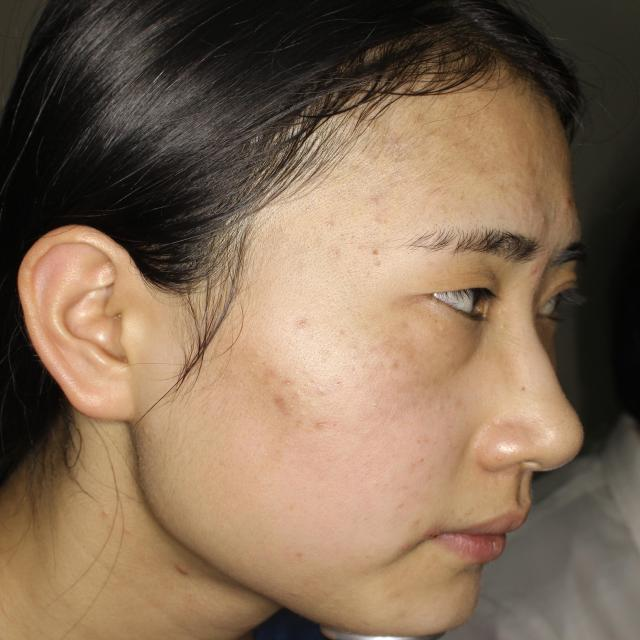comedone: (548, 191, 584, 211)
